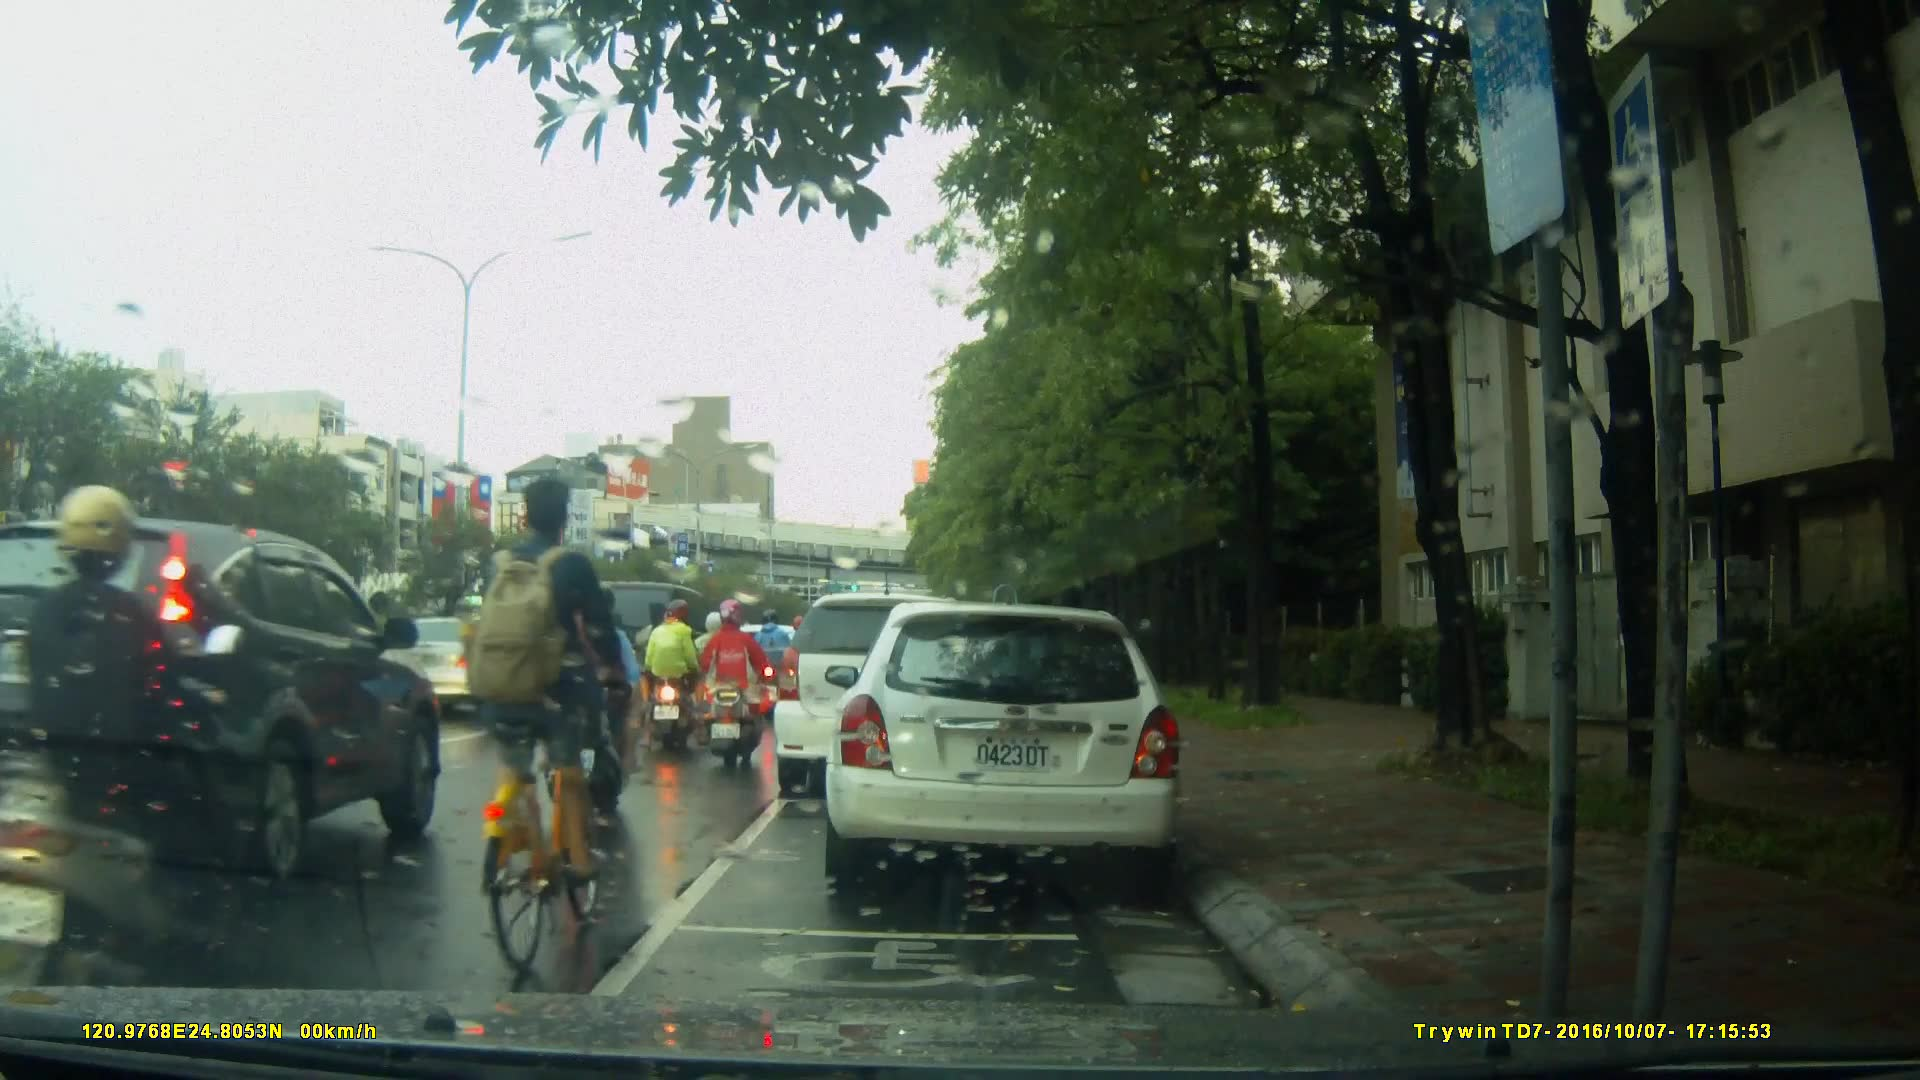rider: (1, 476, 253, 1054), (469, 477, 627, 976), (690, 598, 762, 770), (642, 601, 711, 754), (475, 604, 538, 728), (686, 607, 749, 725), (750, 602, 801, 727)
vehicle: (5, 515, 441, 901), (822, 604, 1188, 883), (774, 595, 995, 802), (343, 610, 534, 723)
